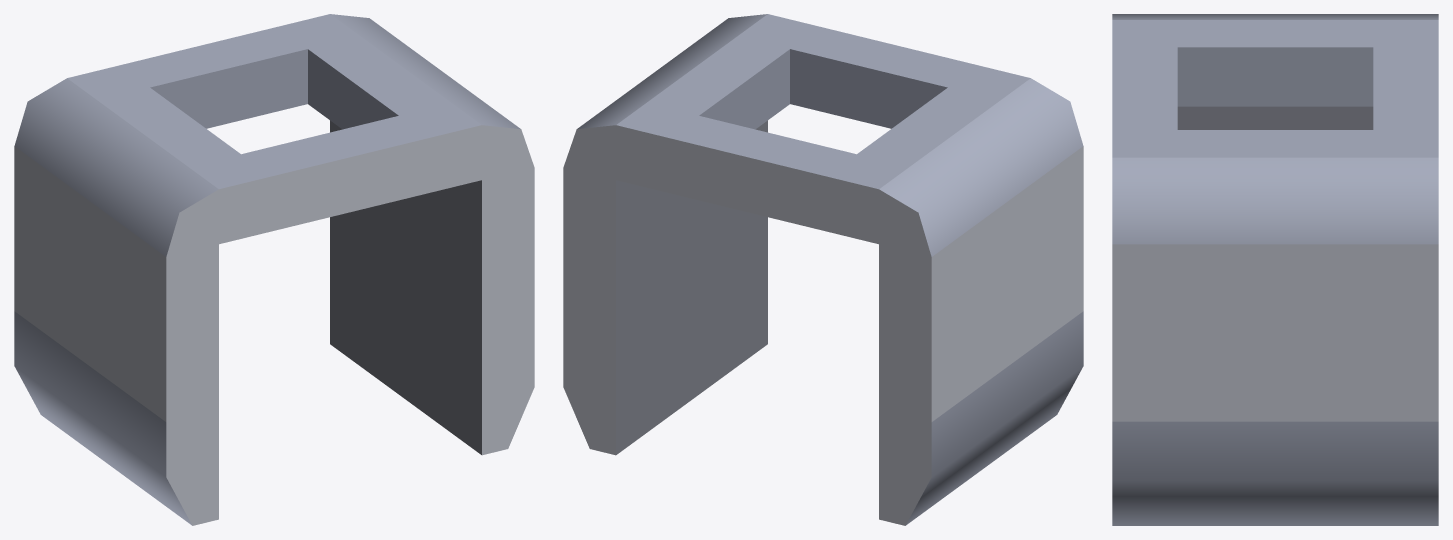
Rendered from cover-top.fbx.
The picture shows the model from 3 angles, left to right: view 1: azimuth 30°, elevation 25°; view 2: azimuth 150°, elevation 25°; view 3: azimuth 270°, elevation 25°; orthographic projection. The views are drawn at different scales.
Parts seen in each view (by area): view 1: cover-top; view 2: cover-top; view 3: cover-top.
Part boxes in pixels (box(x1,y1,x2,y2)): cover-top: box(14, 14, 534, 525); cover-top: box(563, 14, 1083, 525); cover-top: box(1112, 14, 1438, 525).
Size of the model in its own units: 140 by 120 by 100.
